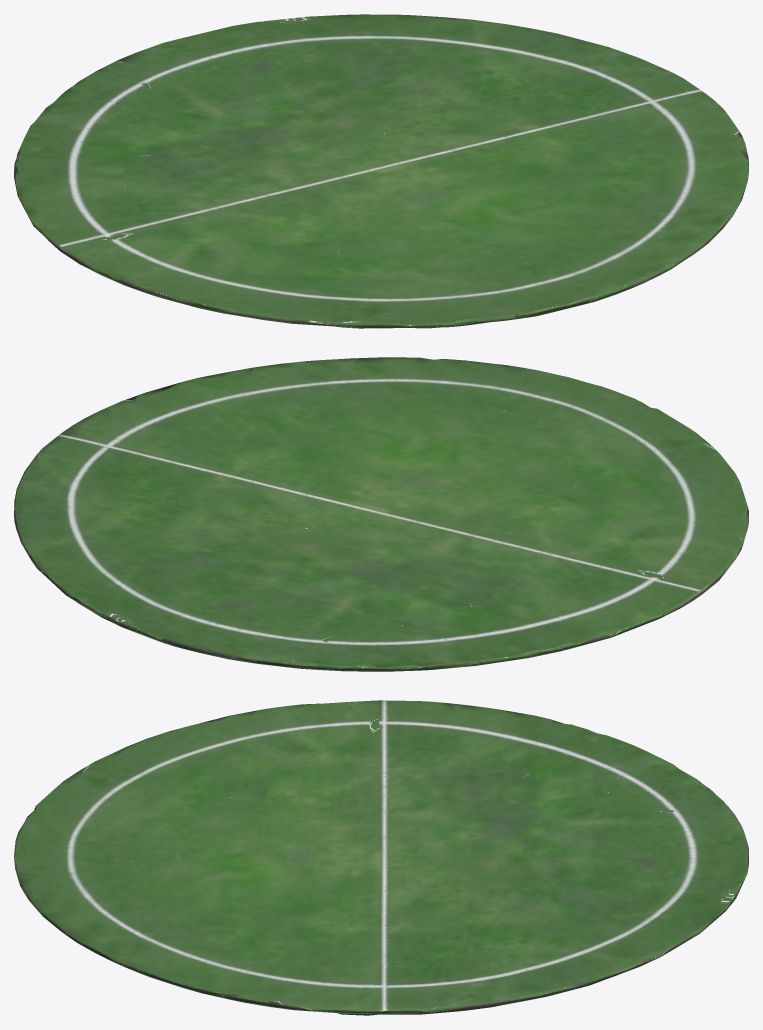
The model's file is stadium-ground.glb.
3 views of the same model, one above another, from view 1: azimuth 30°, elevation 25°; view 2: azimuth 150°, elevation 25°; view 3: azimuth 270°, elevation 25° (orthographic).
Visible parts, largest first — view 1: stadium-ground; view 2: stadium-ground; view 3: stadium-ground.
Part boxes in pixels (x1,y1,x2,y2): stadium-ground: (14,14,748,328); stadium-ground: (14,357,748,671); stadium-ground: (14,700,748,1015).
Bounding box in the file's own units: 105 × 1.26 × 105.
Materials: 1 (1 with a texture image).
